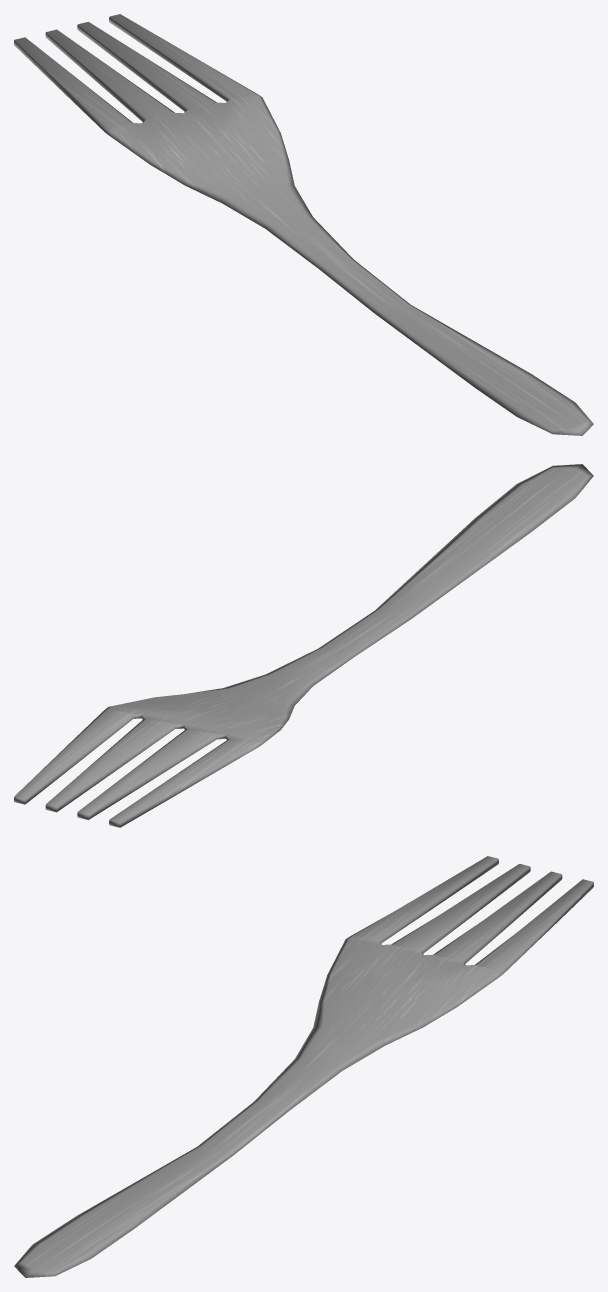
The model's file is fork.glb.
3 renders of one model, top to bottom at view 1: azimuth 30°, elevation 25°; view 2: azimuth 150°, elevation 25°; view 3: azimuth 330°, elevation 25°, orthographic.
Parts seen in each view (by area): view 1: fork; view 2: fork; view 3: fork.
Boxes of the visible parts, left/top/right/bottom form: fork: left=14, top=14, right=593, bottom=435; fork: left=14, top=464, right=593, bottom=827; fork: left=14, top=856, right=593, bottom=1277.
Bounding box in the file's own units: 0.1519 × 0.0433 × 0.8788.
1 material, 1 textured.
